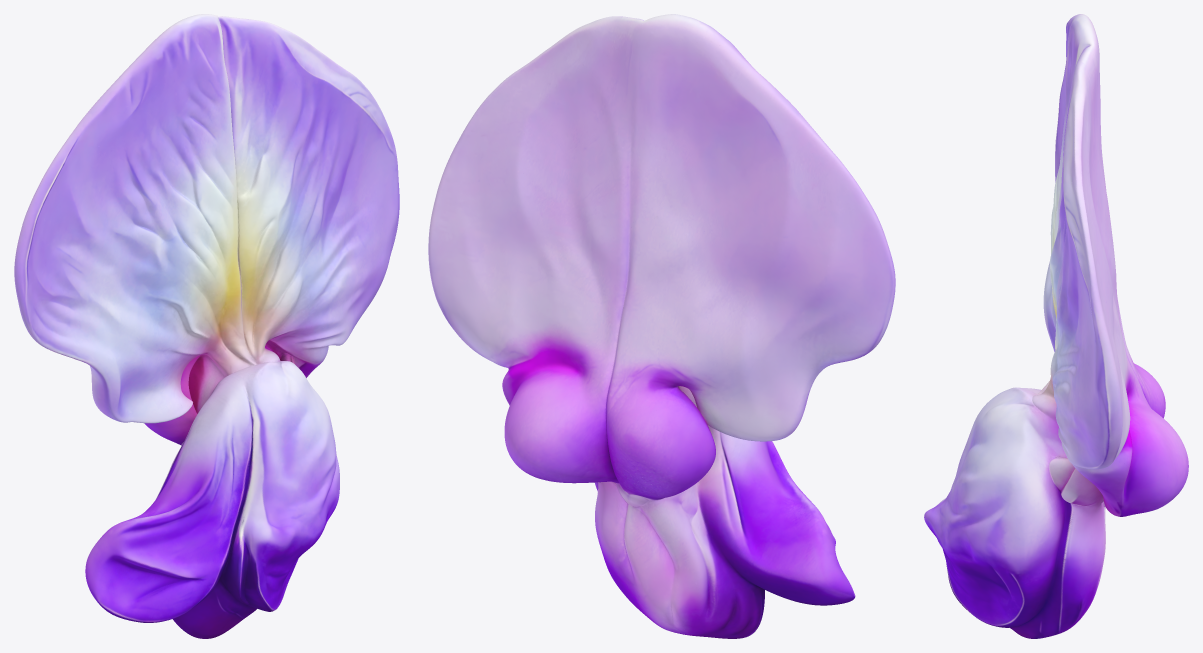
File: WISTERIA-wo-stem-3D.glb
3 renders of one model, left to right at view 1: azimuth 30°, elevation 25°; view 2: azimuth 150°, elevation 25°; view 3: azimuth 270°, elevation 25°, orthographic. The views are drawn at different scales.
Visible parts, largest first — view 1: model; view 2: model; view 3: model.
Part boxes in pixels (left/top/right/bottom): model: left=14, top=14, right=399, bottom=638; model: left=428, top=14, right=895, bottom=638; model: left=924, top=14, right=1188, bottom=638.
Bounding box in the file's own units: 0.0571 × 0.08 × 0.0312.
Materials: 1 (1 with a texture image).
